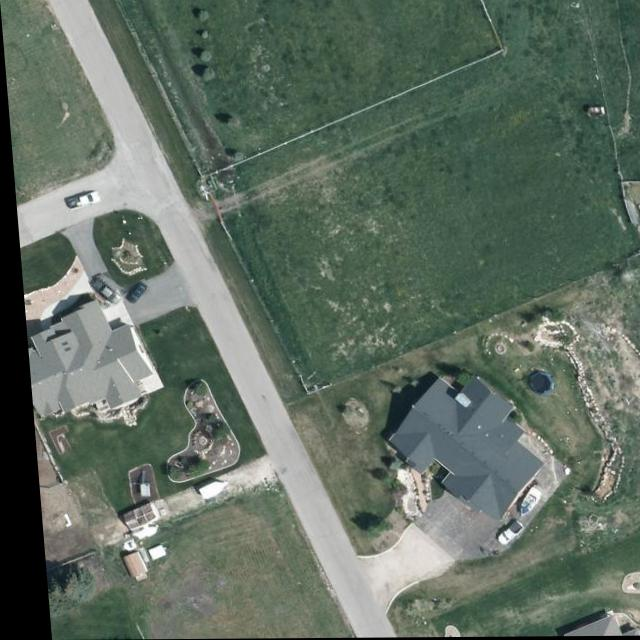vehicle: (85, 272, 117, 308), (485, 520, 518, 548), (60, 191, 98, 211), (116, 281, 148, 304)
